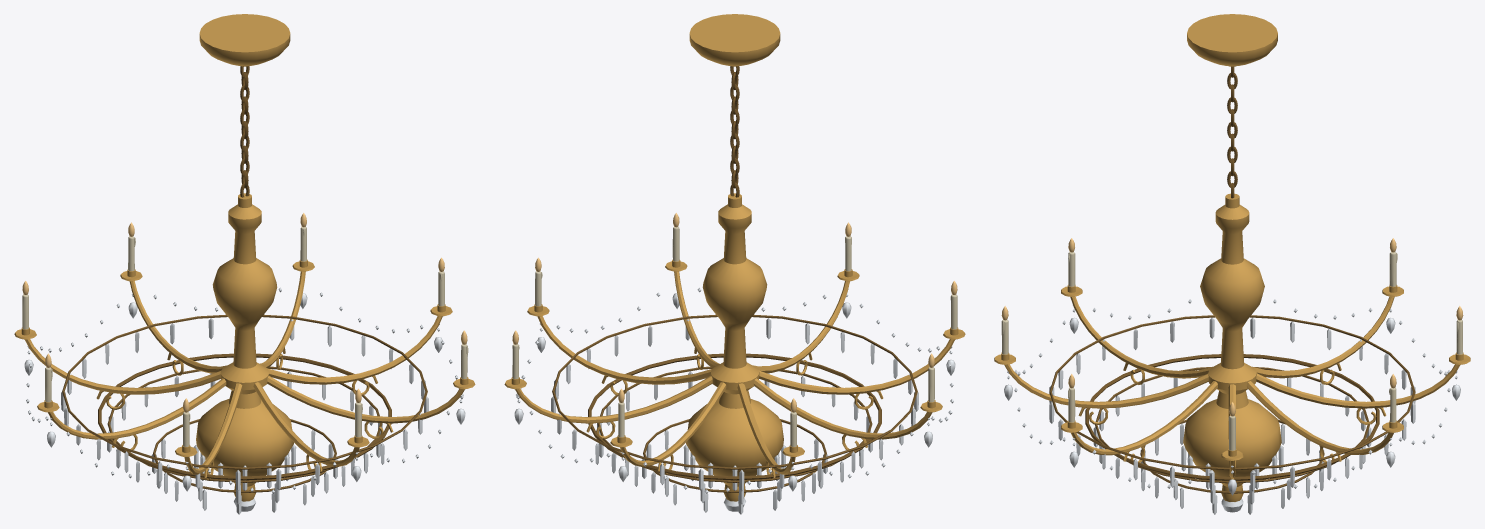
Rendered from chandelier_grand@1.glb.
The picture shows the model from 3 angles, left to right: view 1: azimuth 30°, elevation 25°; view 2: azimuth 150°, elevation 25°; view 3: azimuth 270°, elevation 25°; orthographic projection.
Parts seen in each view (by area): view 1: brass, brass_d, crystal, ivory, flammen; view 2: brass, brass_d, crystal, ivory, flammen; view 3: brass, brass_d, crystal, ivory, flammen.
Part boxes in pixels (x1,y1,x2,y2): brass: (14,14,475,501); brass_d: (62,66,427,492); crystal: (24,287,465,514); ivory: (22,226,468,446); flammen: (22,213,467,412); brass: (504,14,965,501); brass_d: (552,66,917,492); crystal: (514,285,955,514); ivory: (512,226,957,446); flammen: (512,213,957,412); brass: (994,14,1470,501); brass_d: (1049,66,1415,493); crystal: (1004,299,1460,514); ivory: (1001,252,1462,450); flammen: (1001,238,1463,416).
Size of the model in its own units: 1.47 by 1.62 by 1.47.
